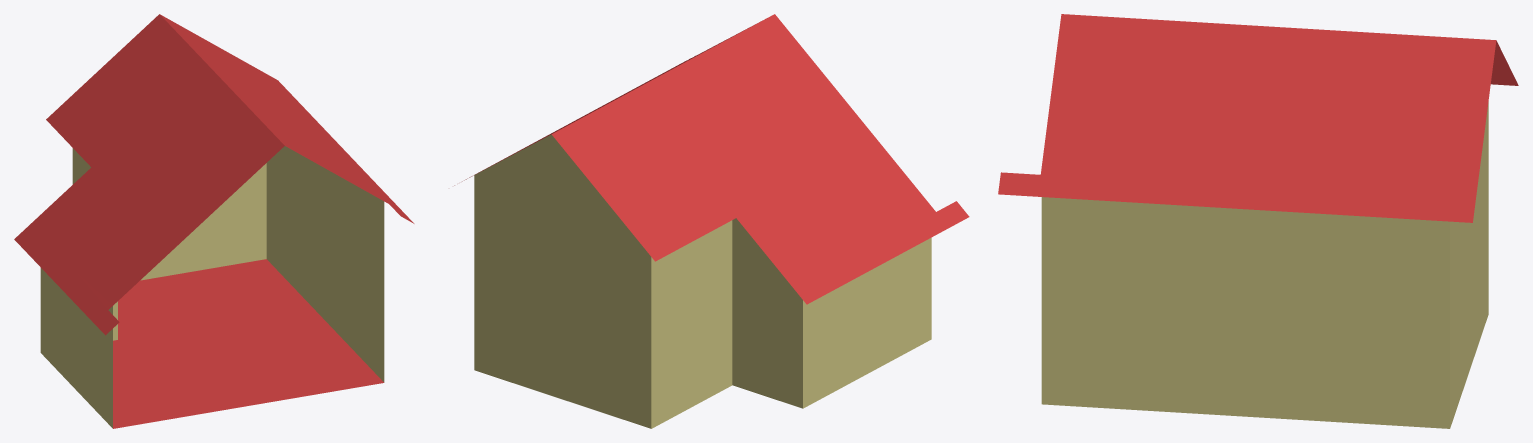
The picture shows the model from 3 angles, left to right: view 1: azimuth 30°, elevation 25°; view 2: azimuth 150°, elevation 25°; view 3: azimuth 270°, elevation 25°; orthographic projection. The views are drawn at different scales.
Size of the model in its own units: 18.6 by 19.41 by 13.64.
